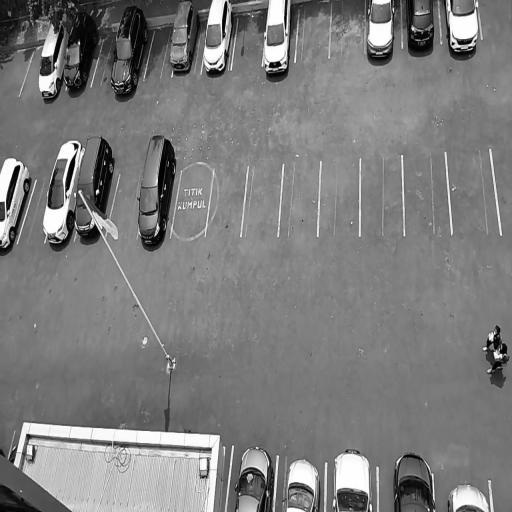Car: (38, 136, 86, 249), (135, 132, 179, 251), (74, 131, 117, 246), (109, 4, 152, 97), (0, 155, 34, 259), (63, 9, 99, 94), (169, 0, 203, 82), (331, 446, 373, 512), (234, 443, 274, 512), (38, 18, 70, 104), (201, 0, 235, 79), (394, 448, 435, 512), (262, 0, 293, 82), (445, 0, 482, 58), (283, 457, 321, 512), (365, 0, 397, 62), (405, 0, 438, 53), (447, 479, 489, 512)
Space Available: (447, 148, 501, 233), (403, 152, 451, 235), (361, 157, 404, 236), (279, 162, 321, 237), (320, 160, 360, 237), (242, 165, 282, 238), (206, 168, 248, 237), (171, 170, 214, 237), (295, 1, 331, 62), (231, 9, 267, 68), (107, 174, 140, 236), (330, 0, 365, 58), (17, 181, 48, 246), (491, 147, 512, 232), (144, 25, 173, 76), (90, 32, 116, 85), (20, 42, 45, 96), (478, 0, 512, 38)
